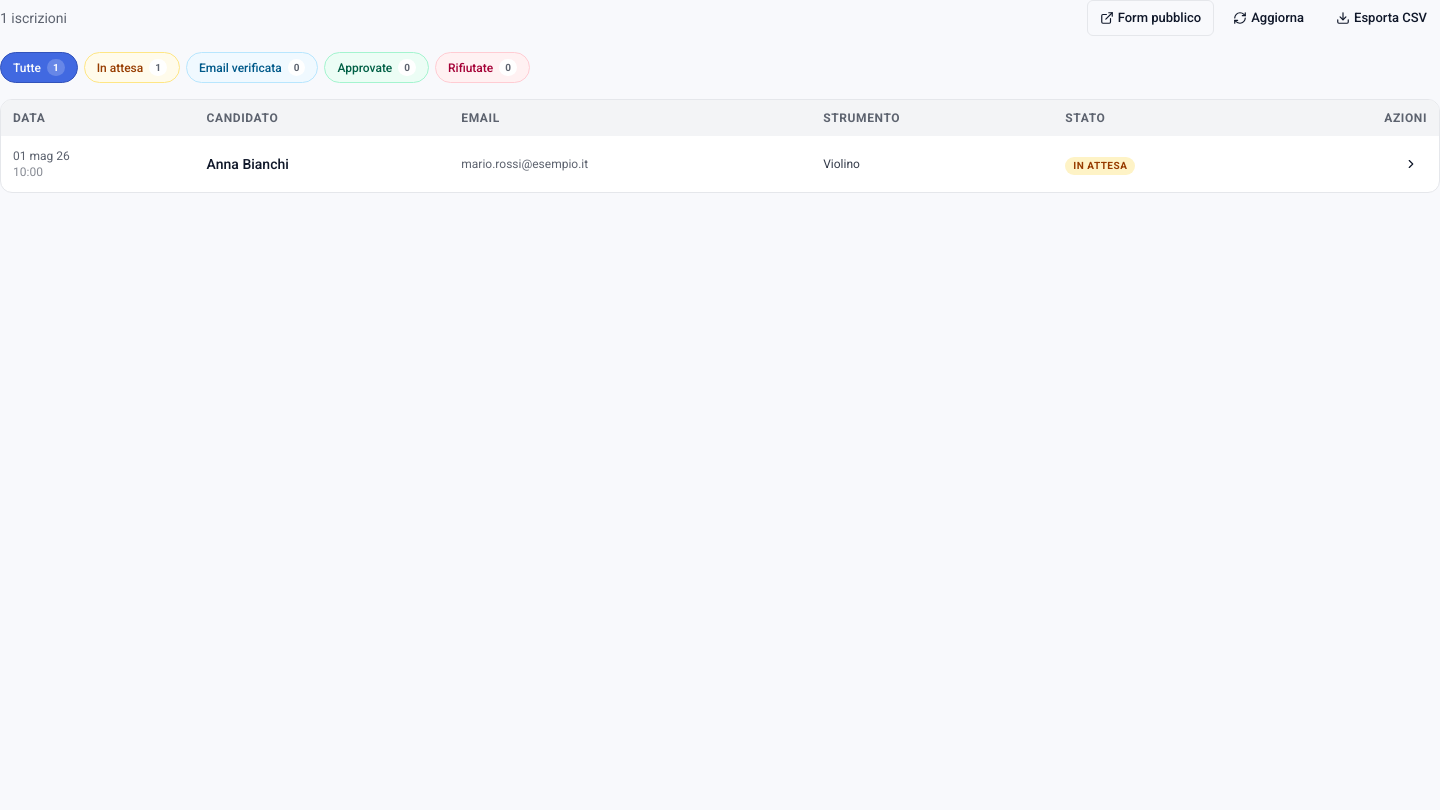
IscrizioniTab › reflects approval in the list (row badge becomes APPROVATA after refetch)
Expected: the text "In attesa" in the row of "01 mag 26" is shown, [1073,160,1127,171]
Click the text "Anna Bianchi".
click(41, 156)  # box [1,136,1439,192]
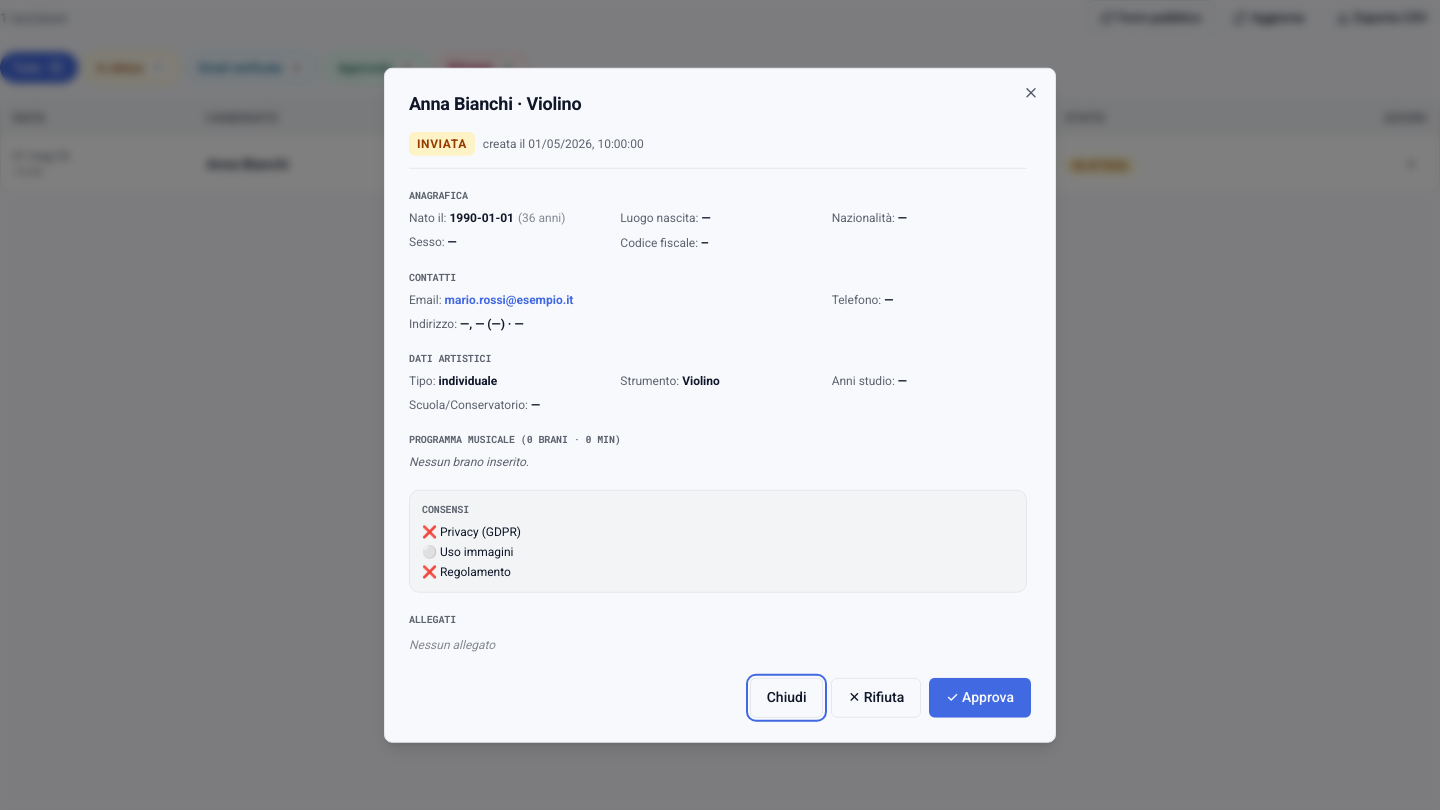
Click the button "✓ Approva".
click(980, 697)  # box [929,677,1031,717]
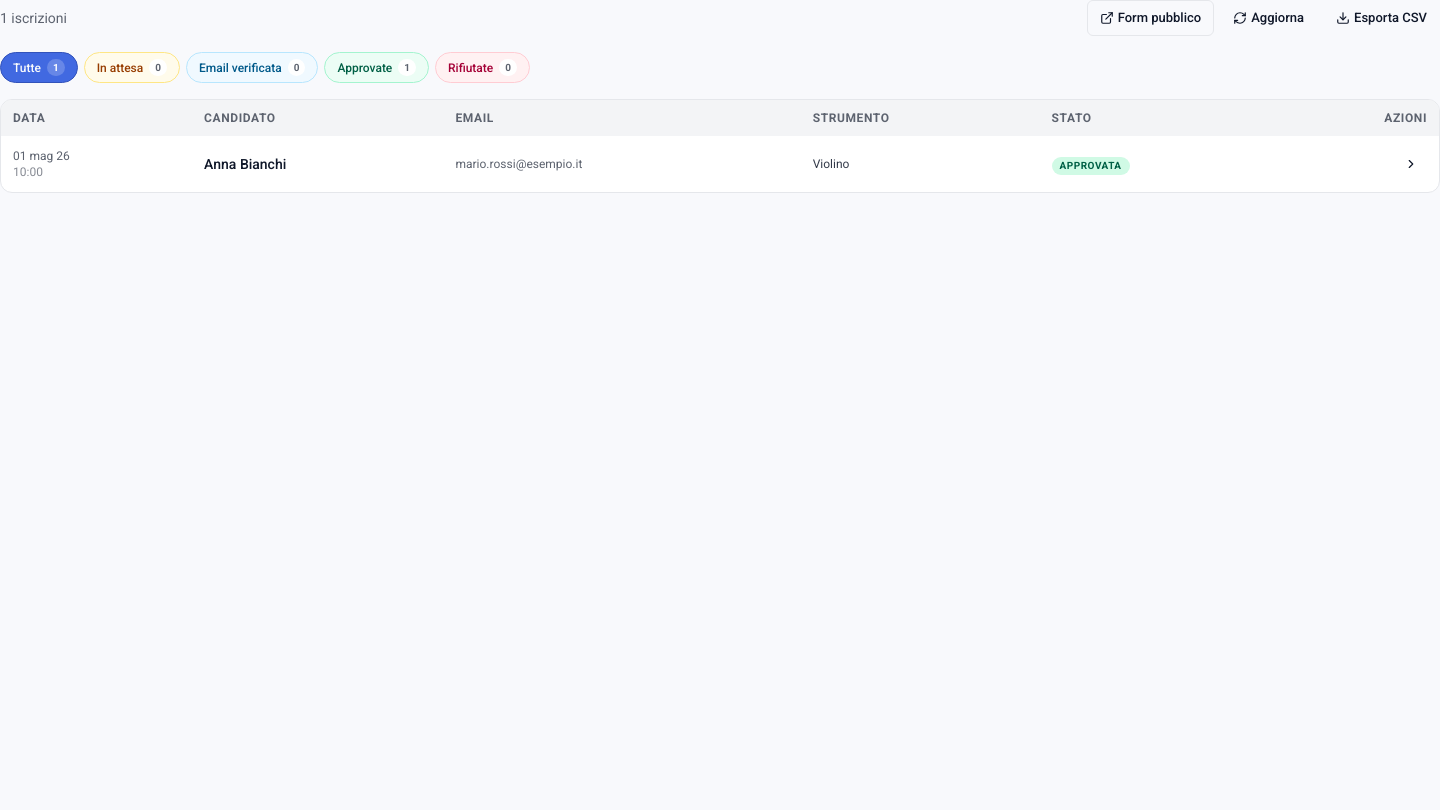
Expected: the text "Approvata" is shown, [1052,157,1130,175]
